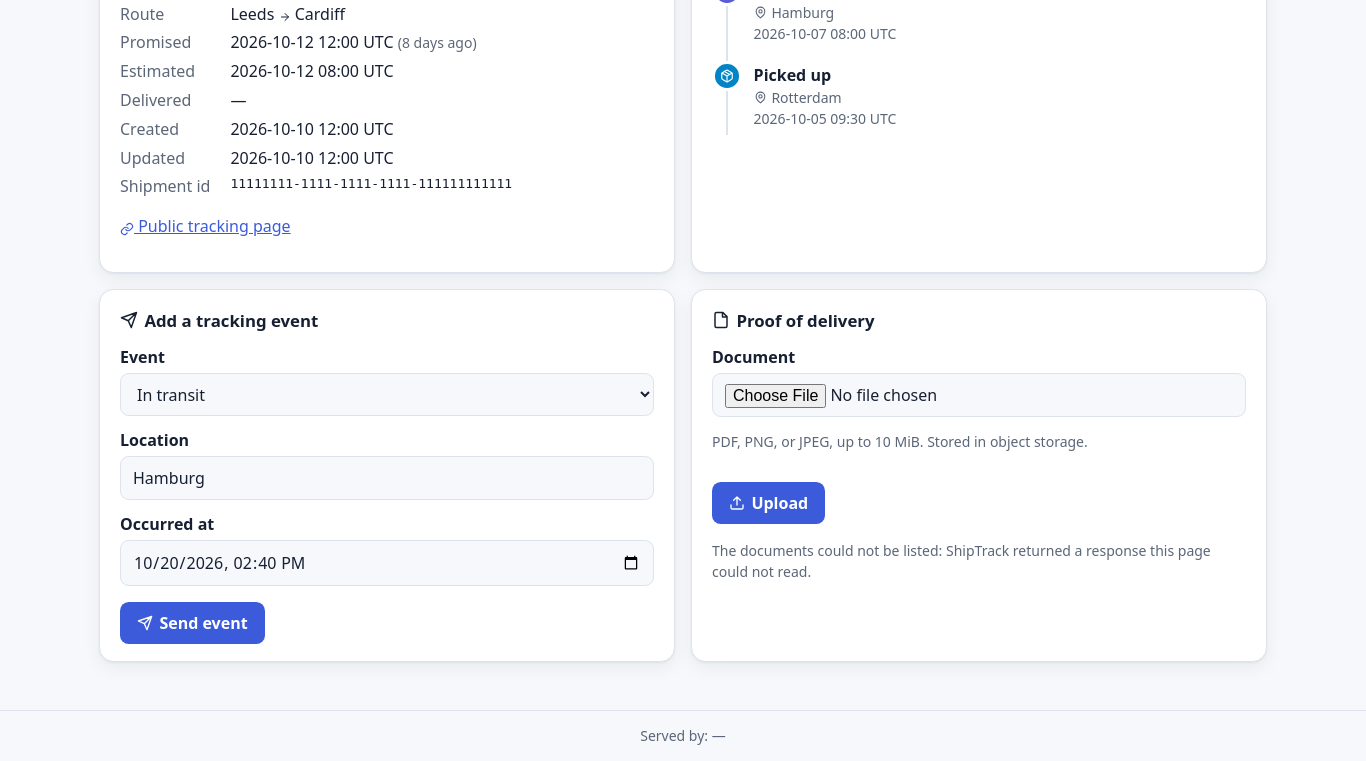
Test case: shipment page › sends an event with an Idempotency-Key and says it was queued
(page scrolled)
Click the button "Send event".
click(192, 622)  # box [120,602,265,644]
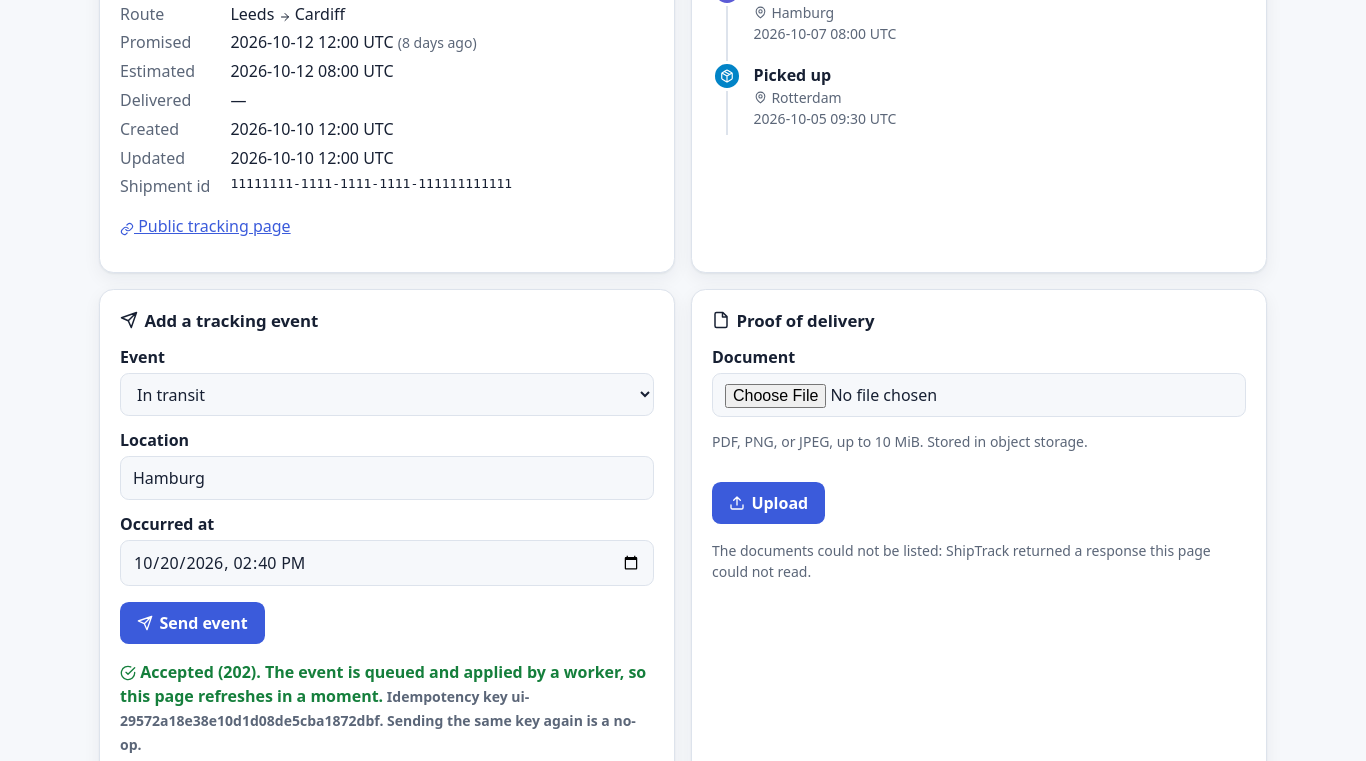
Check: the text "Accepted (202)" is shown, box [120,660,646,706]
